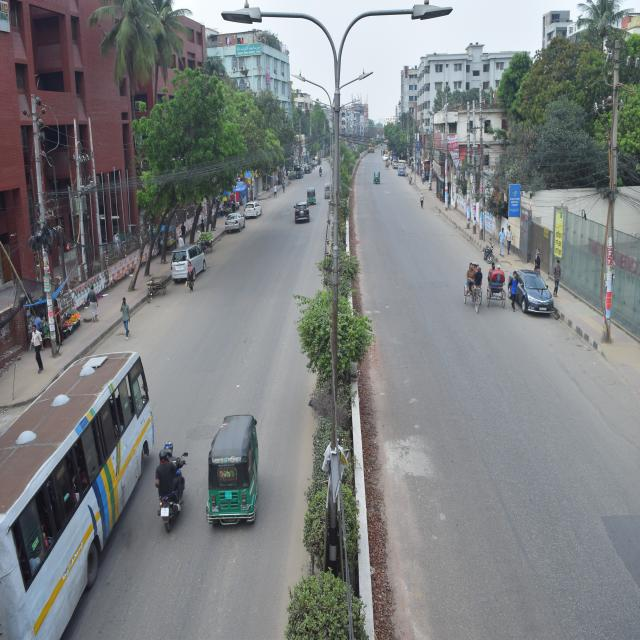bus: (0, 317, 155, 640)
car: (512, 256, 557, 323), (225, 210, 253, 245), (289, 198, 312, 226), (244, 198, 264, 222)
microbus: (173, 239, 214, 290)
motorbike: (151, 432, 195, 536), (480, 237, 498, 267), (318, 167, 321, 171)
pickup-van: (397, 155, 410, 182)
